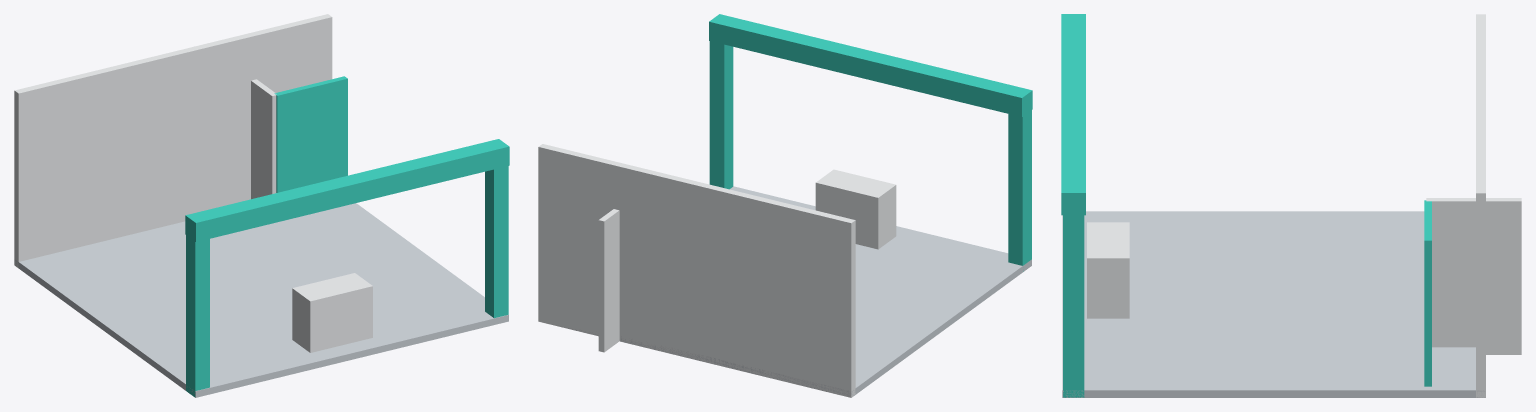
The picture shows the model from 3 angles, left to right: view 1: azimuth 30°, elevation 25°; view 2: azimuth 150°, elevation 25°; view 3: azimuth 270°, elevation 25°; orthographic projection. The views are drawn at different scales.
Visible parts, largest first — view 1: Exhibition Booth Concept; view 2: Exhibition Booth Concept; view 3: Exhibition Booth Concept.
Part boxes in pixels (x1=…): Exhibition Booth Concept: x1=14, y1=14, x2=509, y2=397; Exhibition Booth Concept: x1=538, y1=14, x2=1032, y2=397; Exhibition Booth Concept: x1=1061, y1=14, x2=1521, y2=397.
Size of the model in its own units: 6 by 3.2 by 6.52.
